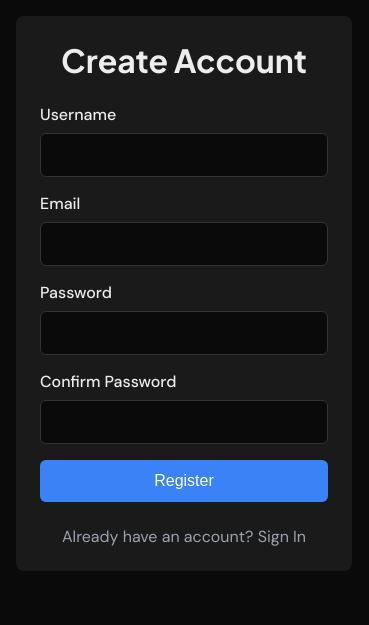
Test case: RegisterPage › shows error when passwords do not match
The image size is (369, 625).
Expected: the heading "Create Account" is shown, 40,40 -> 328,80
Type "testuser" into the field labelled "Username" at {"x": 184, "y": 155}, box 40,133 -> 328,177
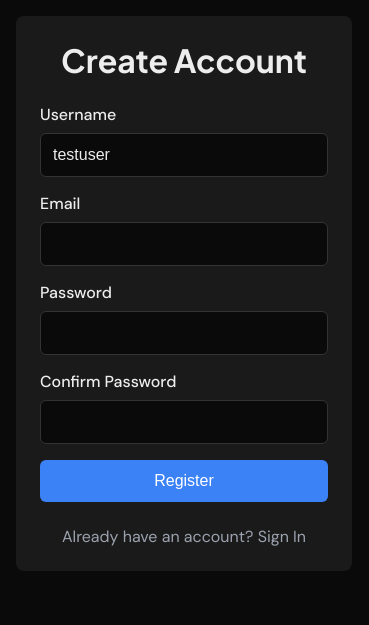
Type "test@example.com" into the field labelled "Email" at {"x": 184, "y": 244}, box 40,222 -> 328,266
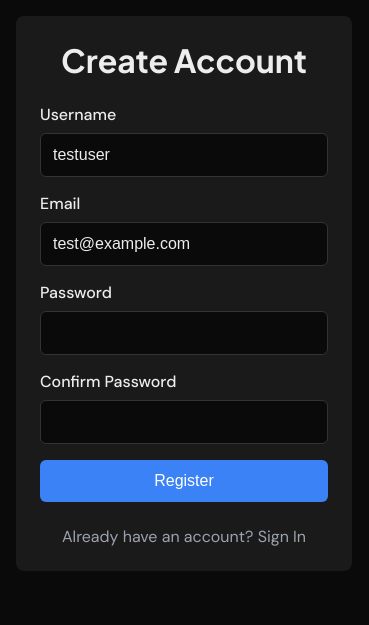
Type "password123" into the password field labelled "Password" at {"x": 184, "y": 333}, box 40,311 -> 328,355
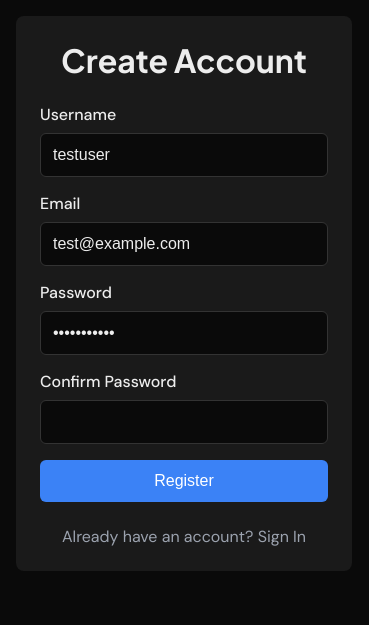
Type "different-password" into the password field labelled "Confirm Password" at {"x": 184, "y": 422}, box 40,400 -> 328,444
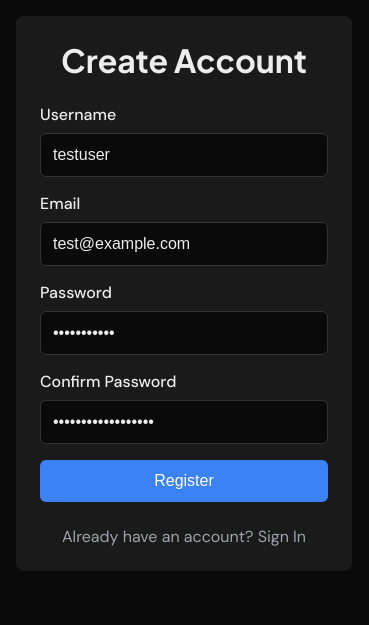
Submit the form from the button "Register", box 40,460 -> 328,502
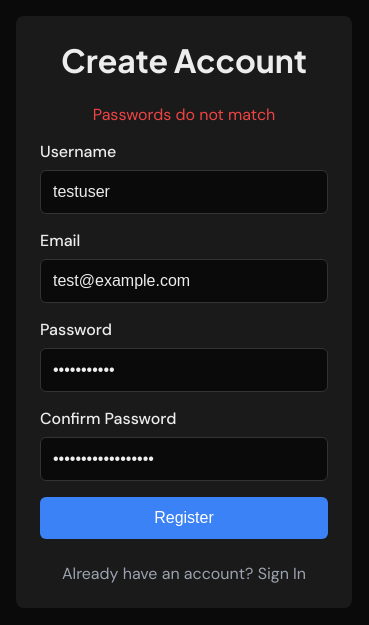
Now the text "Passwords do not match" is shown, box 93,104 -> 275,125
